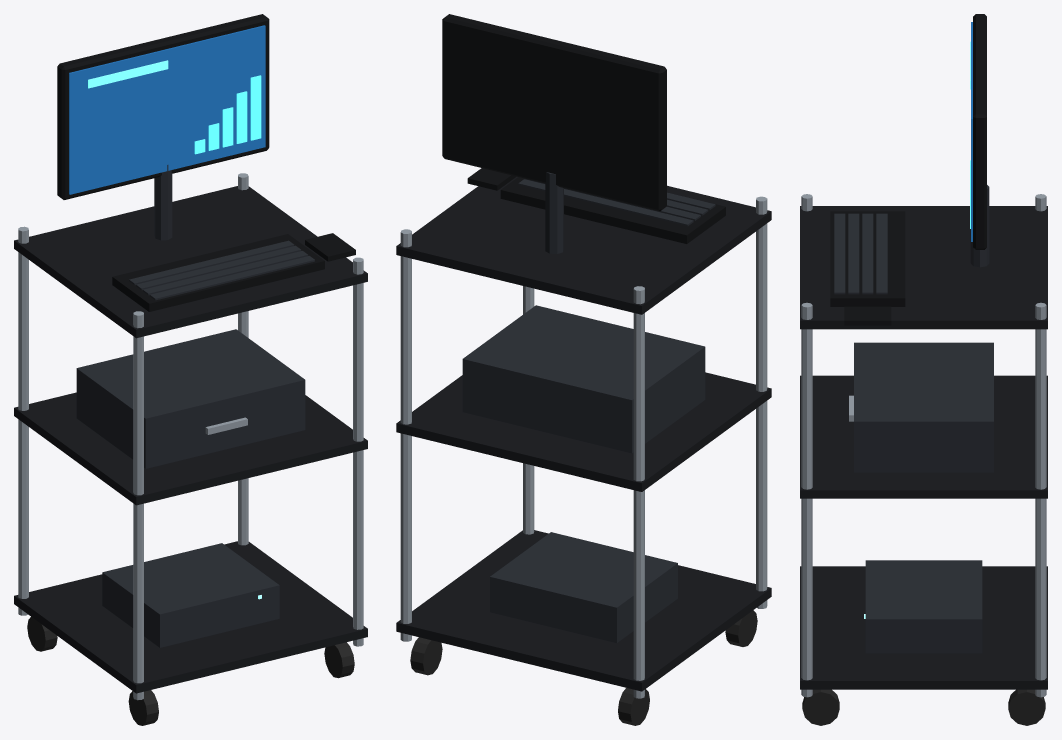
The model's file is 32_KVM_Crash_Cart.fbx.
3 renders of one model, left to right at view 1: azimuth 30°, elevation 25°; view 2: azimuth 150°, elevation 25°; view 3: azimuth 270°, elevation 25°, orthographic. The views are drawn at different scales.
Parts seen in each view (by area): view 1: 32_KVM_Crash_Cart; view 2: 32_KVM_Crash_Cart; view 3: 32_KVM_Crash_Cart.
Boxes of the visible parts, <box> form: 32_KVM_Crash_Cart: <box>14,14,367,725</box>; 32_KVM_Crash_Cart: <box>396,14,771,725</box>; 32_KVM_Crash_Cart: <box>800,14,1047,725</box>.
Size of the model in its own units: 0.605 by 1.44 by 0.53.
